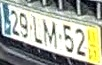2: (73, 27, 86, 57), (9, 9, 19, 37)
5: (61, 23, 75, 53)
9: (18, 11, 29, 38)
L: (31, 14, 43, 45)
M: (42, 17, 58, 50)
